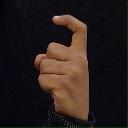hand: (33, 13, 89, 122)
